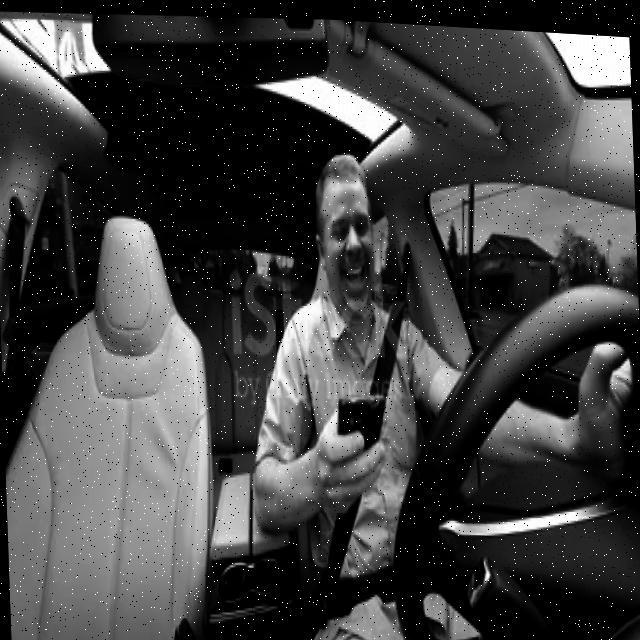PhoneCall: (338, 386, 389, 480)
